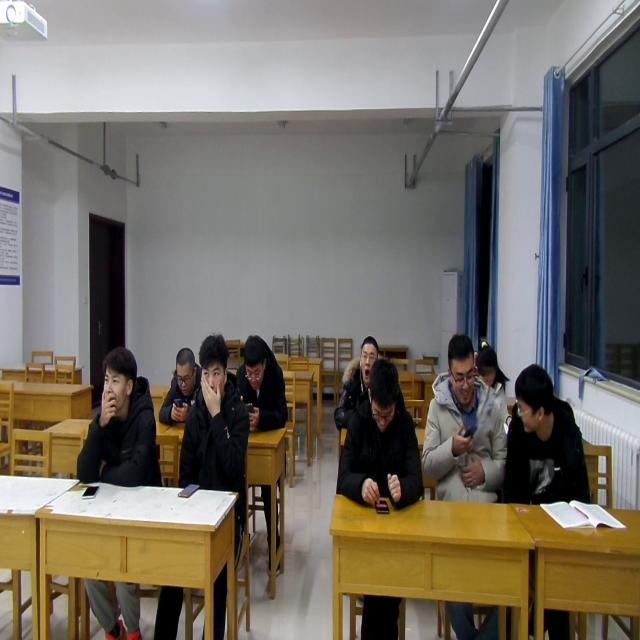bow: (233, 334, 289, 439), (158, 346, 202, 425)
down: (363, 356, 402, 432), (443, 331, 478, 410), (240, 331, 272, 391), (473, 336, 501, 388), (171, 341, 198, 393)
lookup: (97, 341, 139, 414), (196, 330, 230, 404), (354, 333, 379, 385)
sit: (420, 331, 508, 508), (336, 354, 426, 508), (505, 363, 592, 508), (76, 346, 161, 490), (176, 331, 250, 494), (334, 331, 381, 431), (474, 338, 513, 431)
